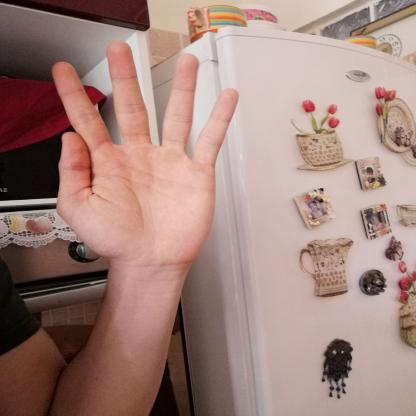SHEEN: (28, 31, 250, 272)
